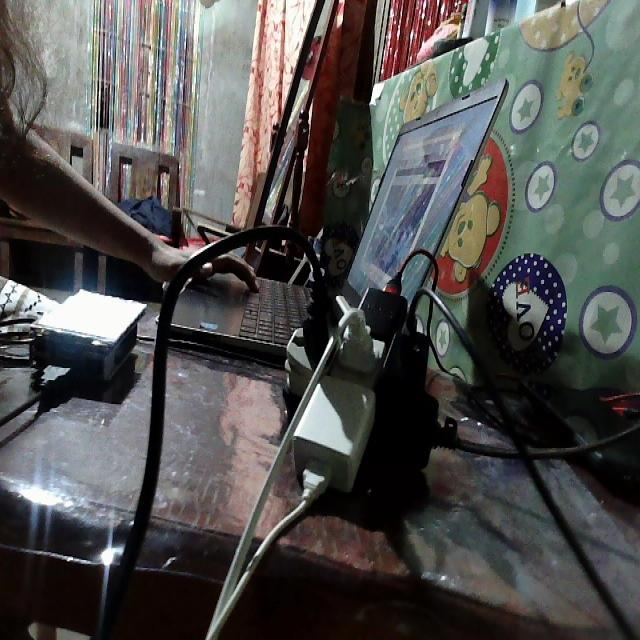-: (271, 247, 443, 508)
